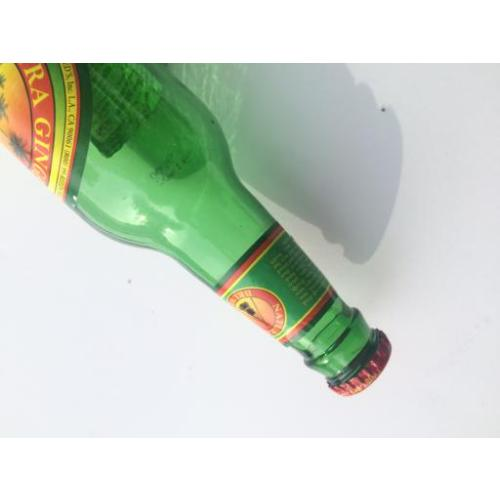glass: (0, 62, 389, 396)
